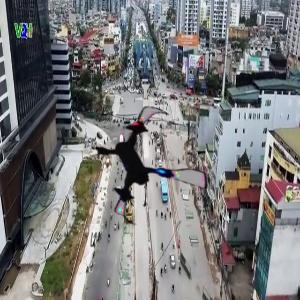drone: (87, 104, 212, 229)
